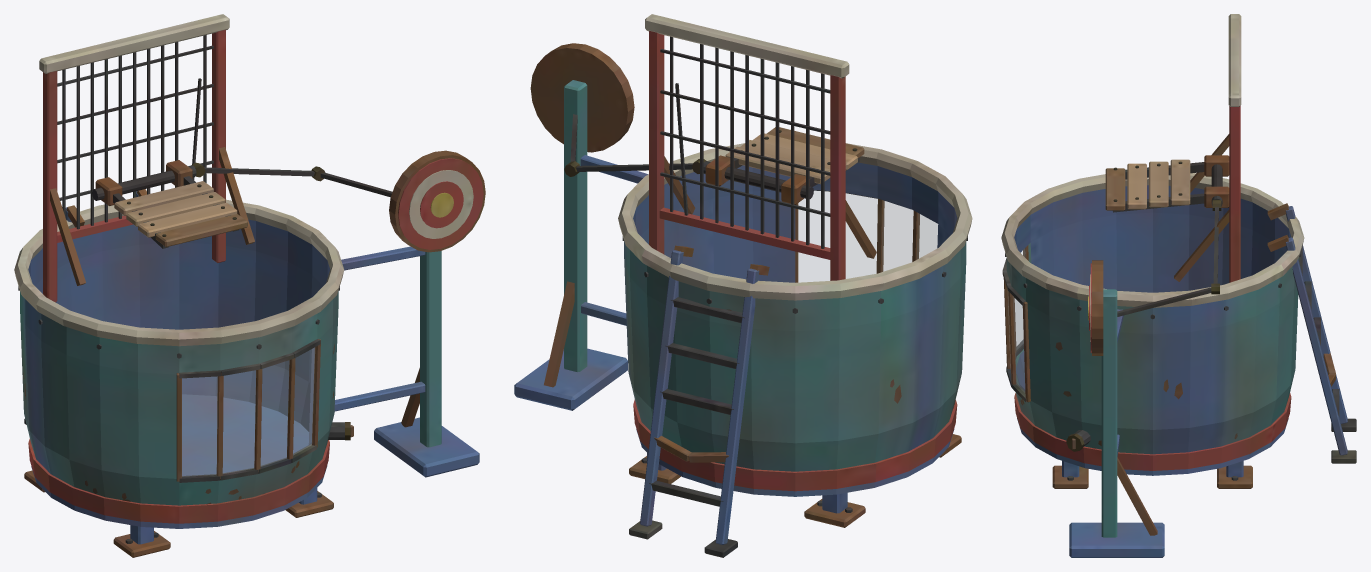
Rendered from C12_dunk_tank.glb.
3 views of the same model, side by side, from view 1: azimuth 30°, elevation 25°; view 2: azimuth 150°, elevation 25°; view 3: azimuth 270°, elevation 25° (orthographic). The views are drawn at different scales.
Parts seen in each view (by area): view 1: Tank floor; view 2: Tank floor; view 3: Tank floor.
Boxes of the visible parts, x1,y1,x2,y2 form: Tank floor: (14, 14, 485, 557); Tank floor: (514, 14, 972, 557); Tank floor: (1001, 14, 1356, 557).
Bounding box in the file's own units: 3 × 2.92 × 2.41.
12 materials, 11 textured.
